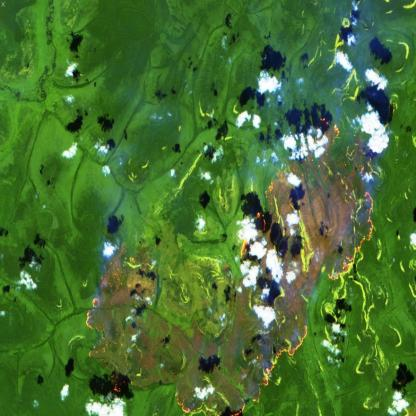fire: (172, 109, 355, 416), (78, 235, 154, 404)
